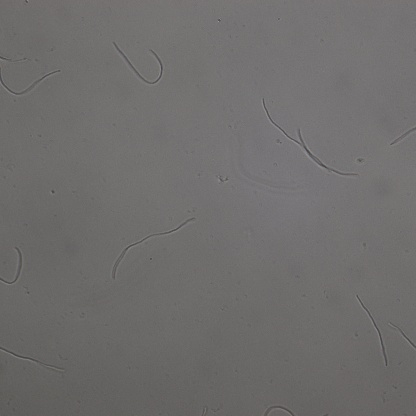Sensitive: (262, 99, 358, 178), (112, 217, 193, 275), (114, 42, 164, 85), (358, 297, 389, 366), (1, 69, 60, 96), (1, 346, 64, 370), (1, 246, 23, 285)
